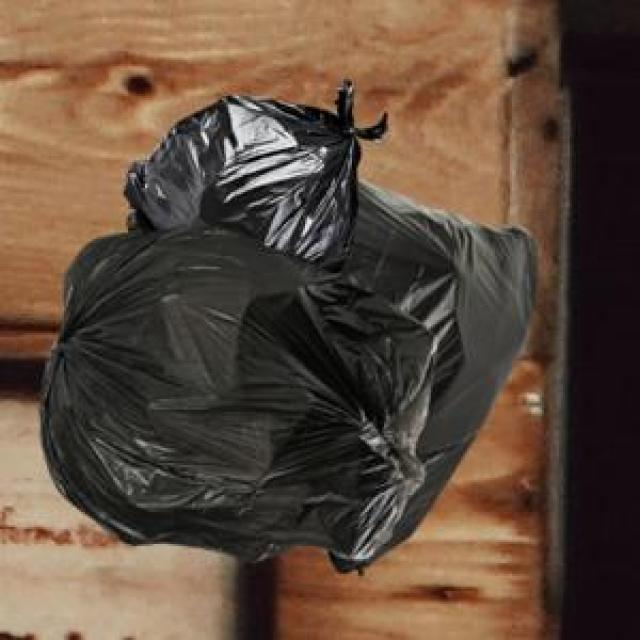waste: (45, 81, 535, 570)
